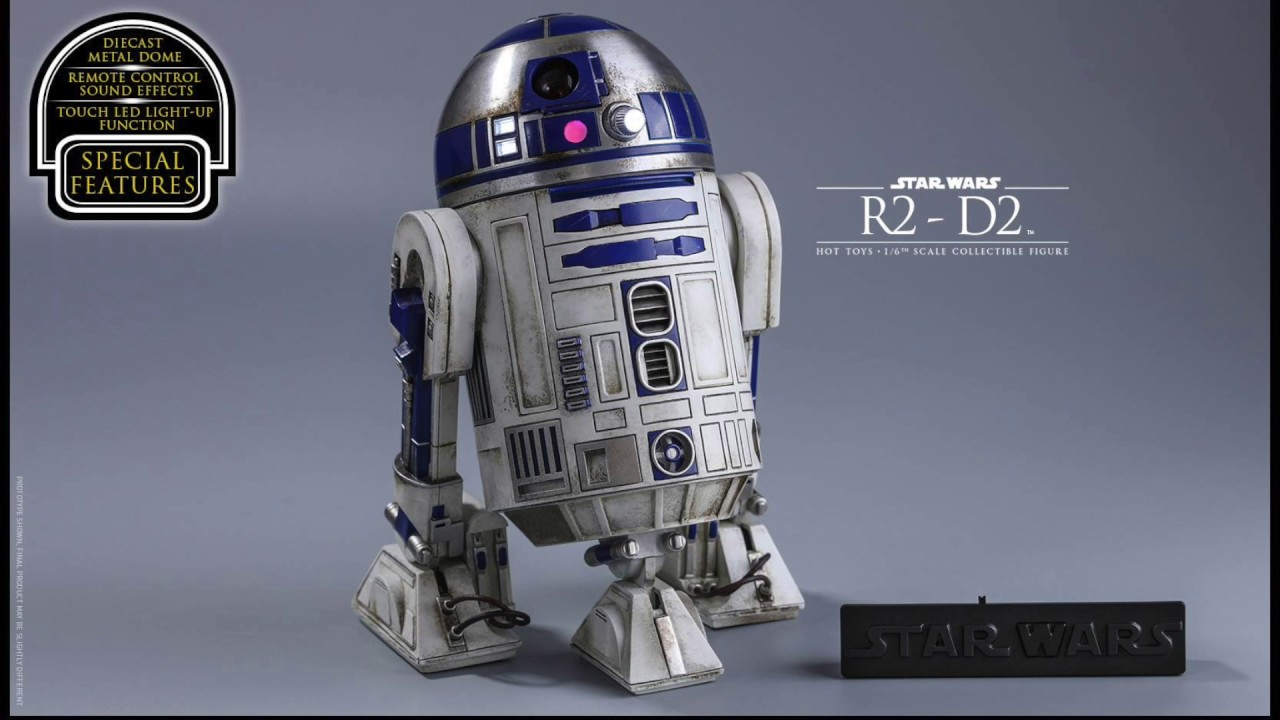r2d2: (367, 12, 807, 680)
